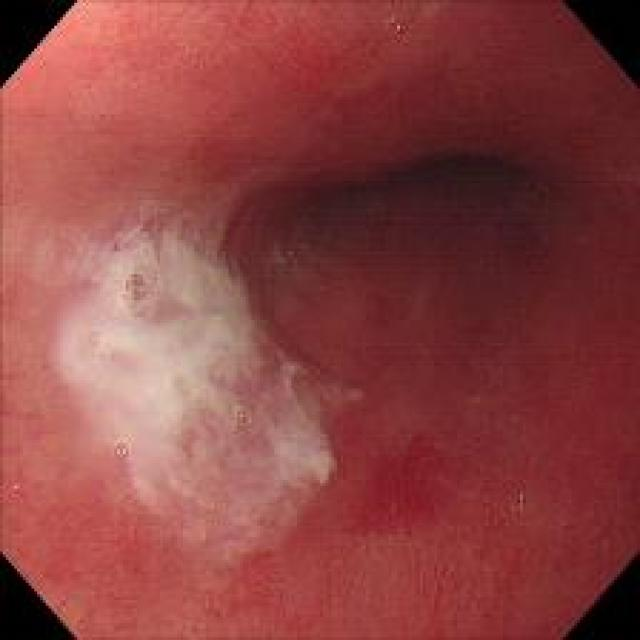bubbles: (68, 239, 329, 528), (224, 401, 259, 432), (380, 9, 410, 41), (110, 439, 139, 470), (275, 241, 299, 272), (121, 269, 146, 296), (81, 328, 108, 351), (515, 489, 532, 512)
color misalignment: (512, 486, 535, 515), (6, 475, 28, 502)
contrast: (319, 156, 550, 241)
